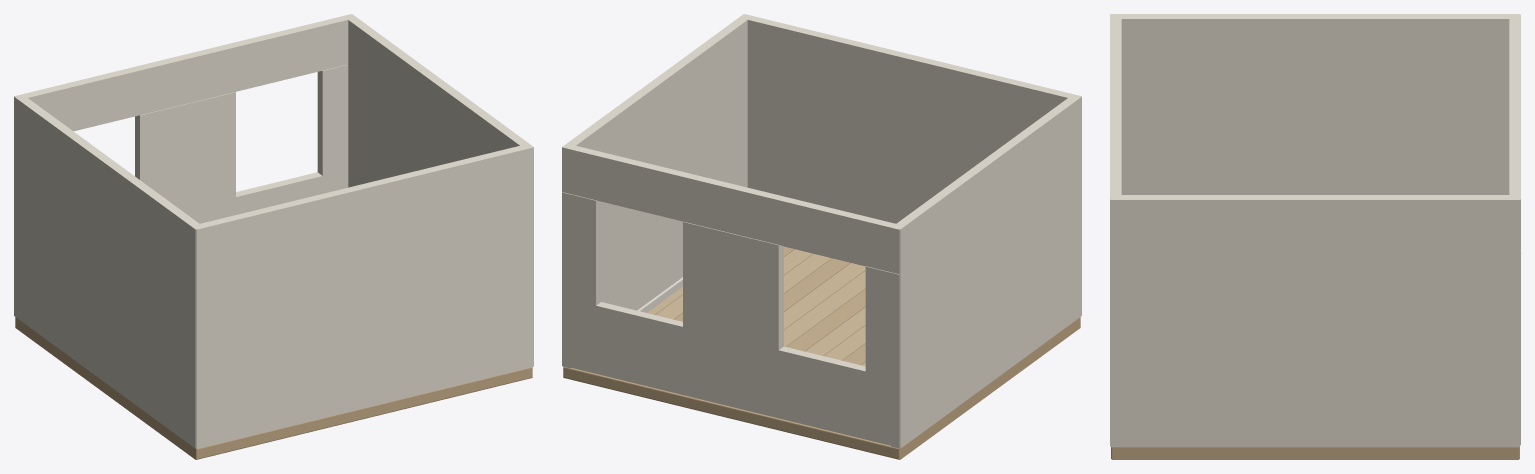
File: shell.glb
The picture shows the model from 3 angles, left to right: view 1: azimuth 30°, elevation 25°; view 2: azimuth 150°, elevation 25°; view 3: azimuth 270°, elevation 25°; orthographic projection. The views are drawn at different scales.
Visible parts, largest first — view 1: Front wall, Left wall, Right wall, Back wall over windows, Back wall pier (×2), Foundation, Back wall below windows; view 2: Left wall, Front wall, Back wall below windows, Right wall, Back wall pier (×3), Back wall over windows, Floor board (×7), Foundation; view 3: Right wall, Left wall, Foundation, Front wall, Back wall over windows.
Boxes of the visible parts, x1,y1,x2,y2 form: Front wall: (192, 143, 533, 448); Left wall: (14, 96, 202, 448); Right wall: (344, 14, 533, 365); Back wall over windows: (14, 14, 355, 131); Back wall pier (×2): (135, 64, 348, 210); Foundation: (15, 317, 532, 459); Back wall below windows: (182, 170, 348, 223); Left wall: (891, 96, 1081, 448); Front wall: (740, 14, 1081, 223); Back wall below windows: (562, 297, 899, 447); Right wall: (562, 14, 751, 368); Back wall pier (×3): (562, 192, 899, 379); Back wall over windows: (562, 144, 903, 273); Floor board (×7): (784, 254, 865, 360); Foundation: (563, 317, 1080, 459); Right wall: (1111, 195, 1519, 447); Left wall: (1111, 14, 1519, 194); Foundation: (1111, 447, 1519, 459); Front wall: (1110, 14, 1121, 446); Back wall over windows: (1509, 14, 1520, 249).
Bounding box in the file's own units: 4.52 × 2.95 × 4.22.
